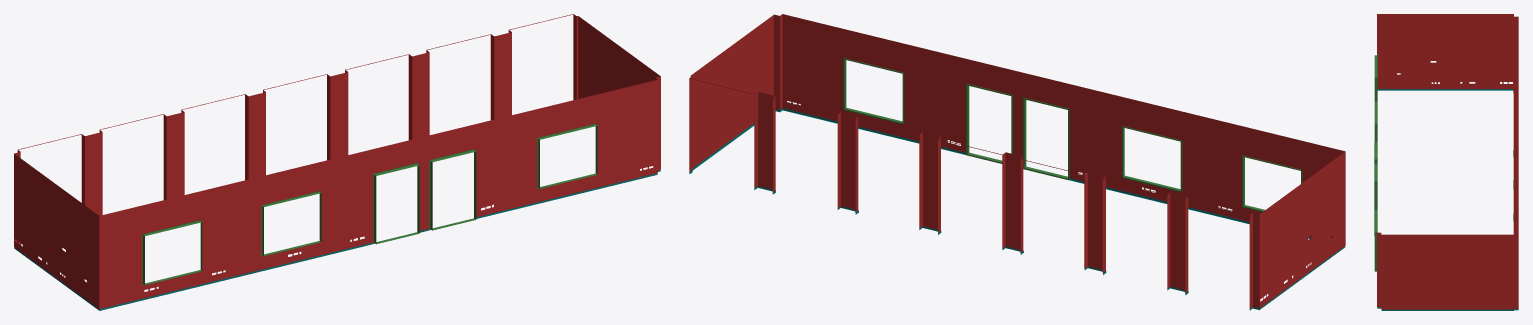
Rendered from SM_Walls.fbx.
The picture shows the model from 3 angles, left to right: view 1: azimuth 30°, elevation 25°; view 2: azimuth 150°, elevation 25°; view 3: azimuth 270°, elevation 25°; orthographic projection. The views are drawn at different scales.
Visible parts, largest first — view 1: SM_Walls; view 2: SM_Walls; view 3: SM_Walls.
Part boxes in pixels (x1,y1,x2,y2): SM_Walls: [14, 14, 660, 310]; SM_Walls: [689, 14, 1345, 310]; SM_Walls: [1374, 14, 1518, 310].
Bounding box in the file's own units: 1895 × 306 × 525.
